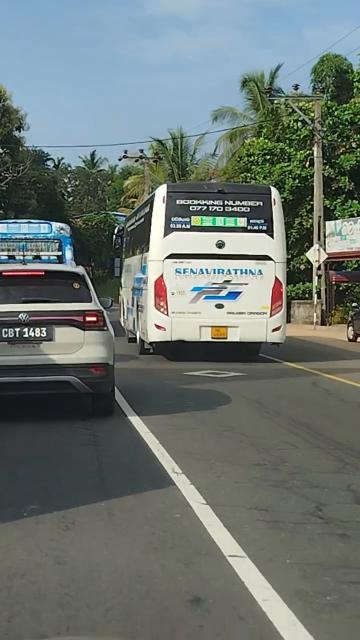illegal overtaking: (130, 165, 304, 386)
number plate: (0, 312, 60, 351)
